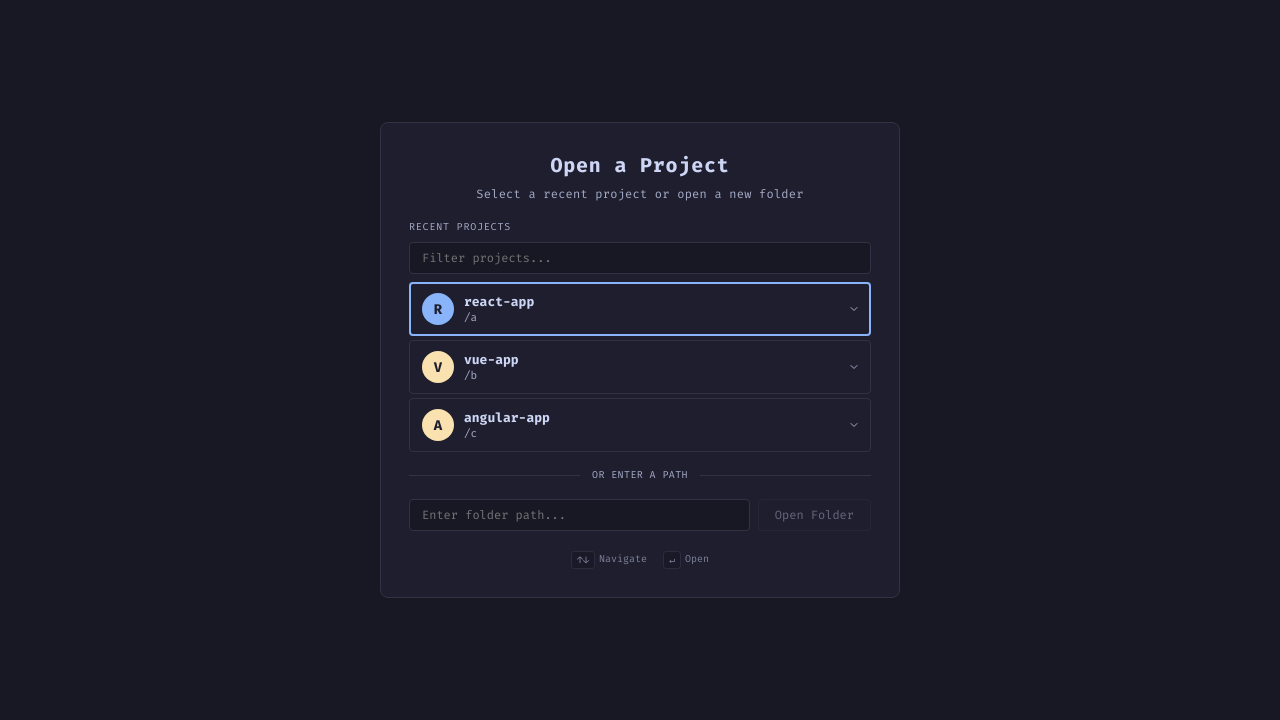
Test case: ProjectPicker › search filtering › filters projects by search query
Type "react" into the field with placeholder "Filter projects..." at (640, 258), box x1=409 y1=242 x2=871 y2=274
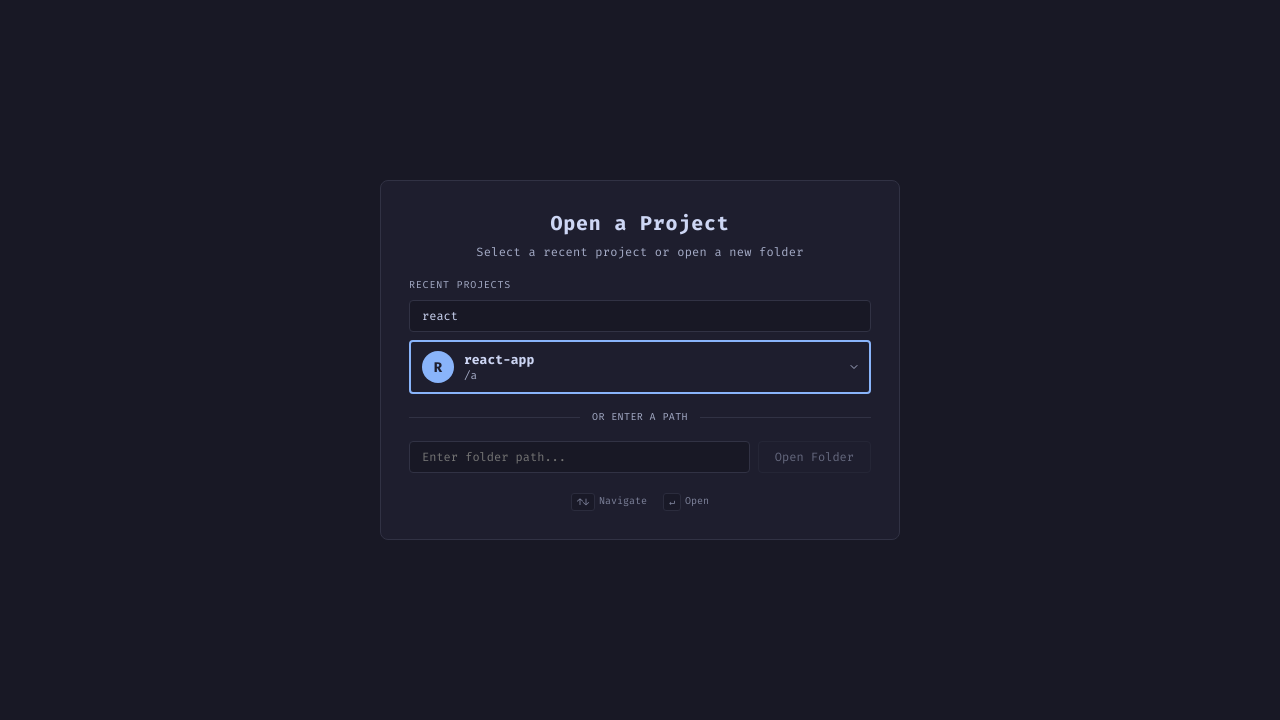
Expected: the text "react-app" is shown, x1=464 y1=352 x2=534 y2=367
Now the button "vue-app" is gone
Now the button "angular-app" is gone
